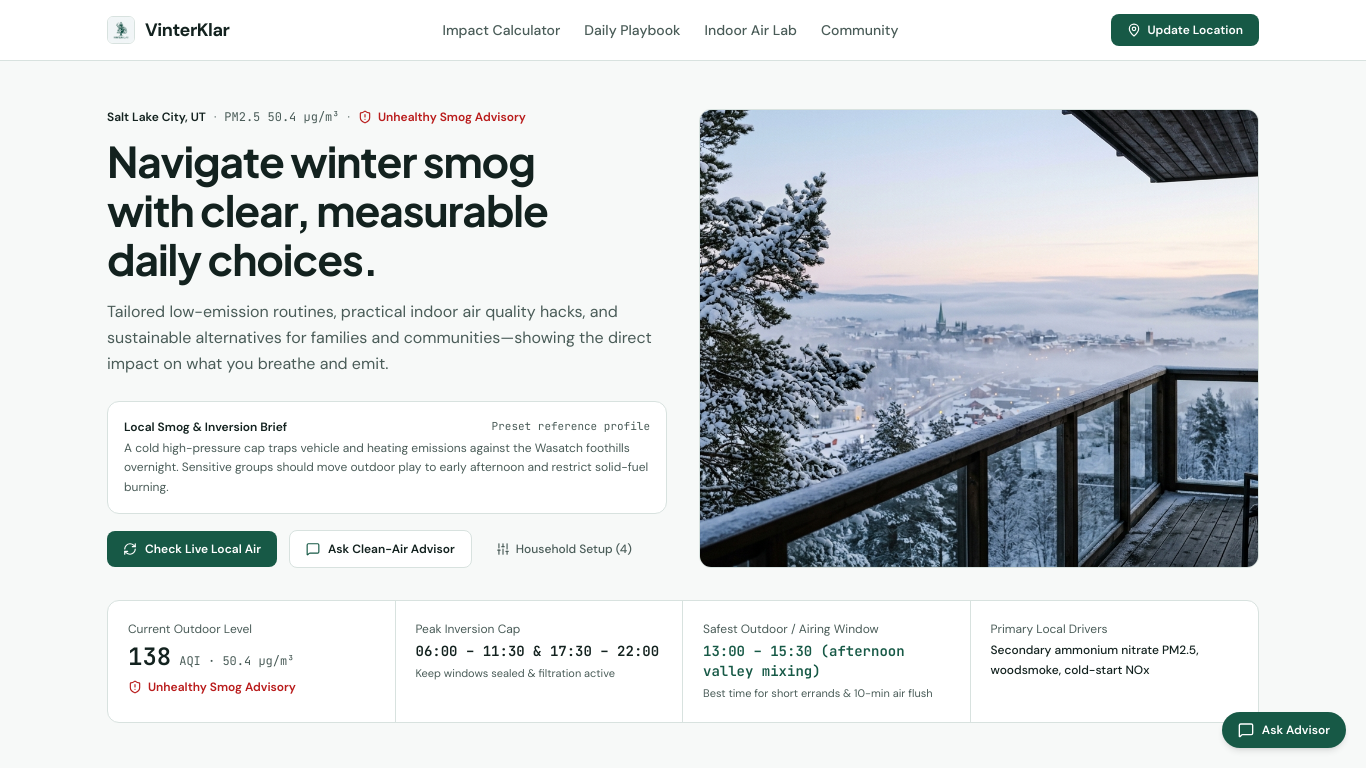
Test: App end-to-end integration › displays an accessible error alert if fetching the live local air brief fails
Click the button "Check Live Local Air" at [192, 549], box [107,531,277,567]
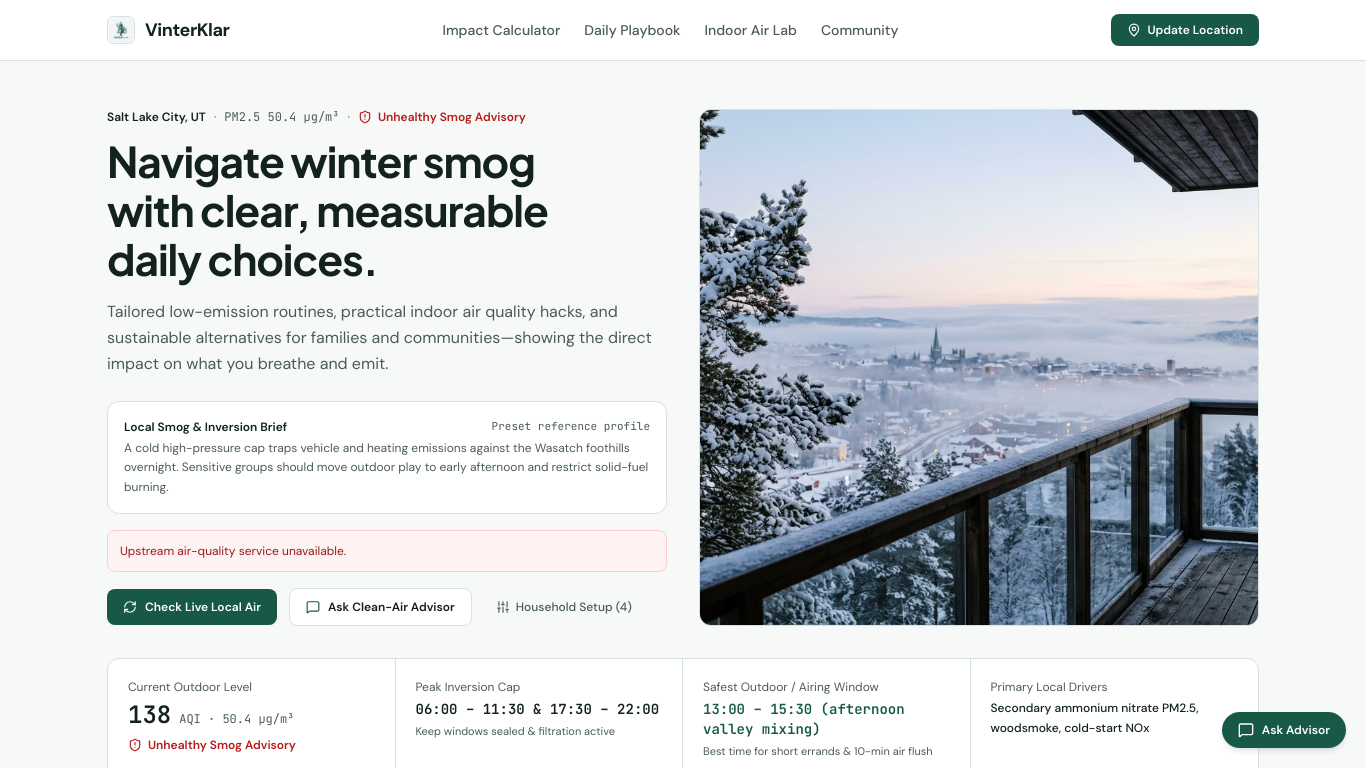
Expected: the message reads "Upstream air-quality service unavailable.", [120,543,346,559]
